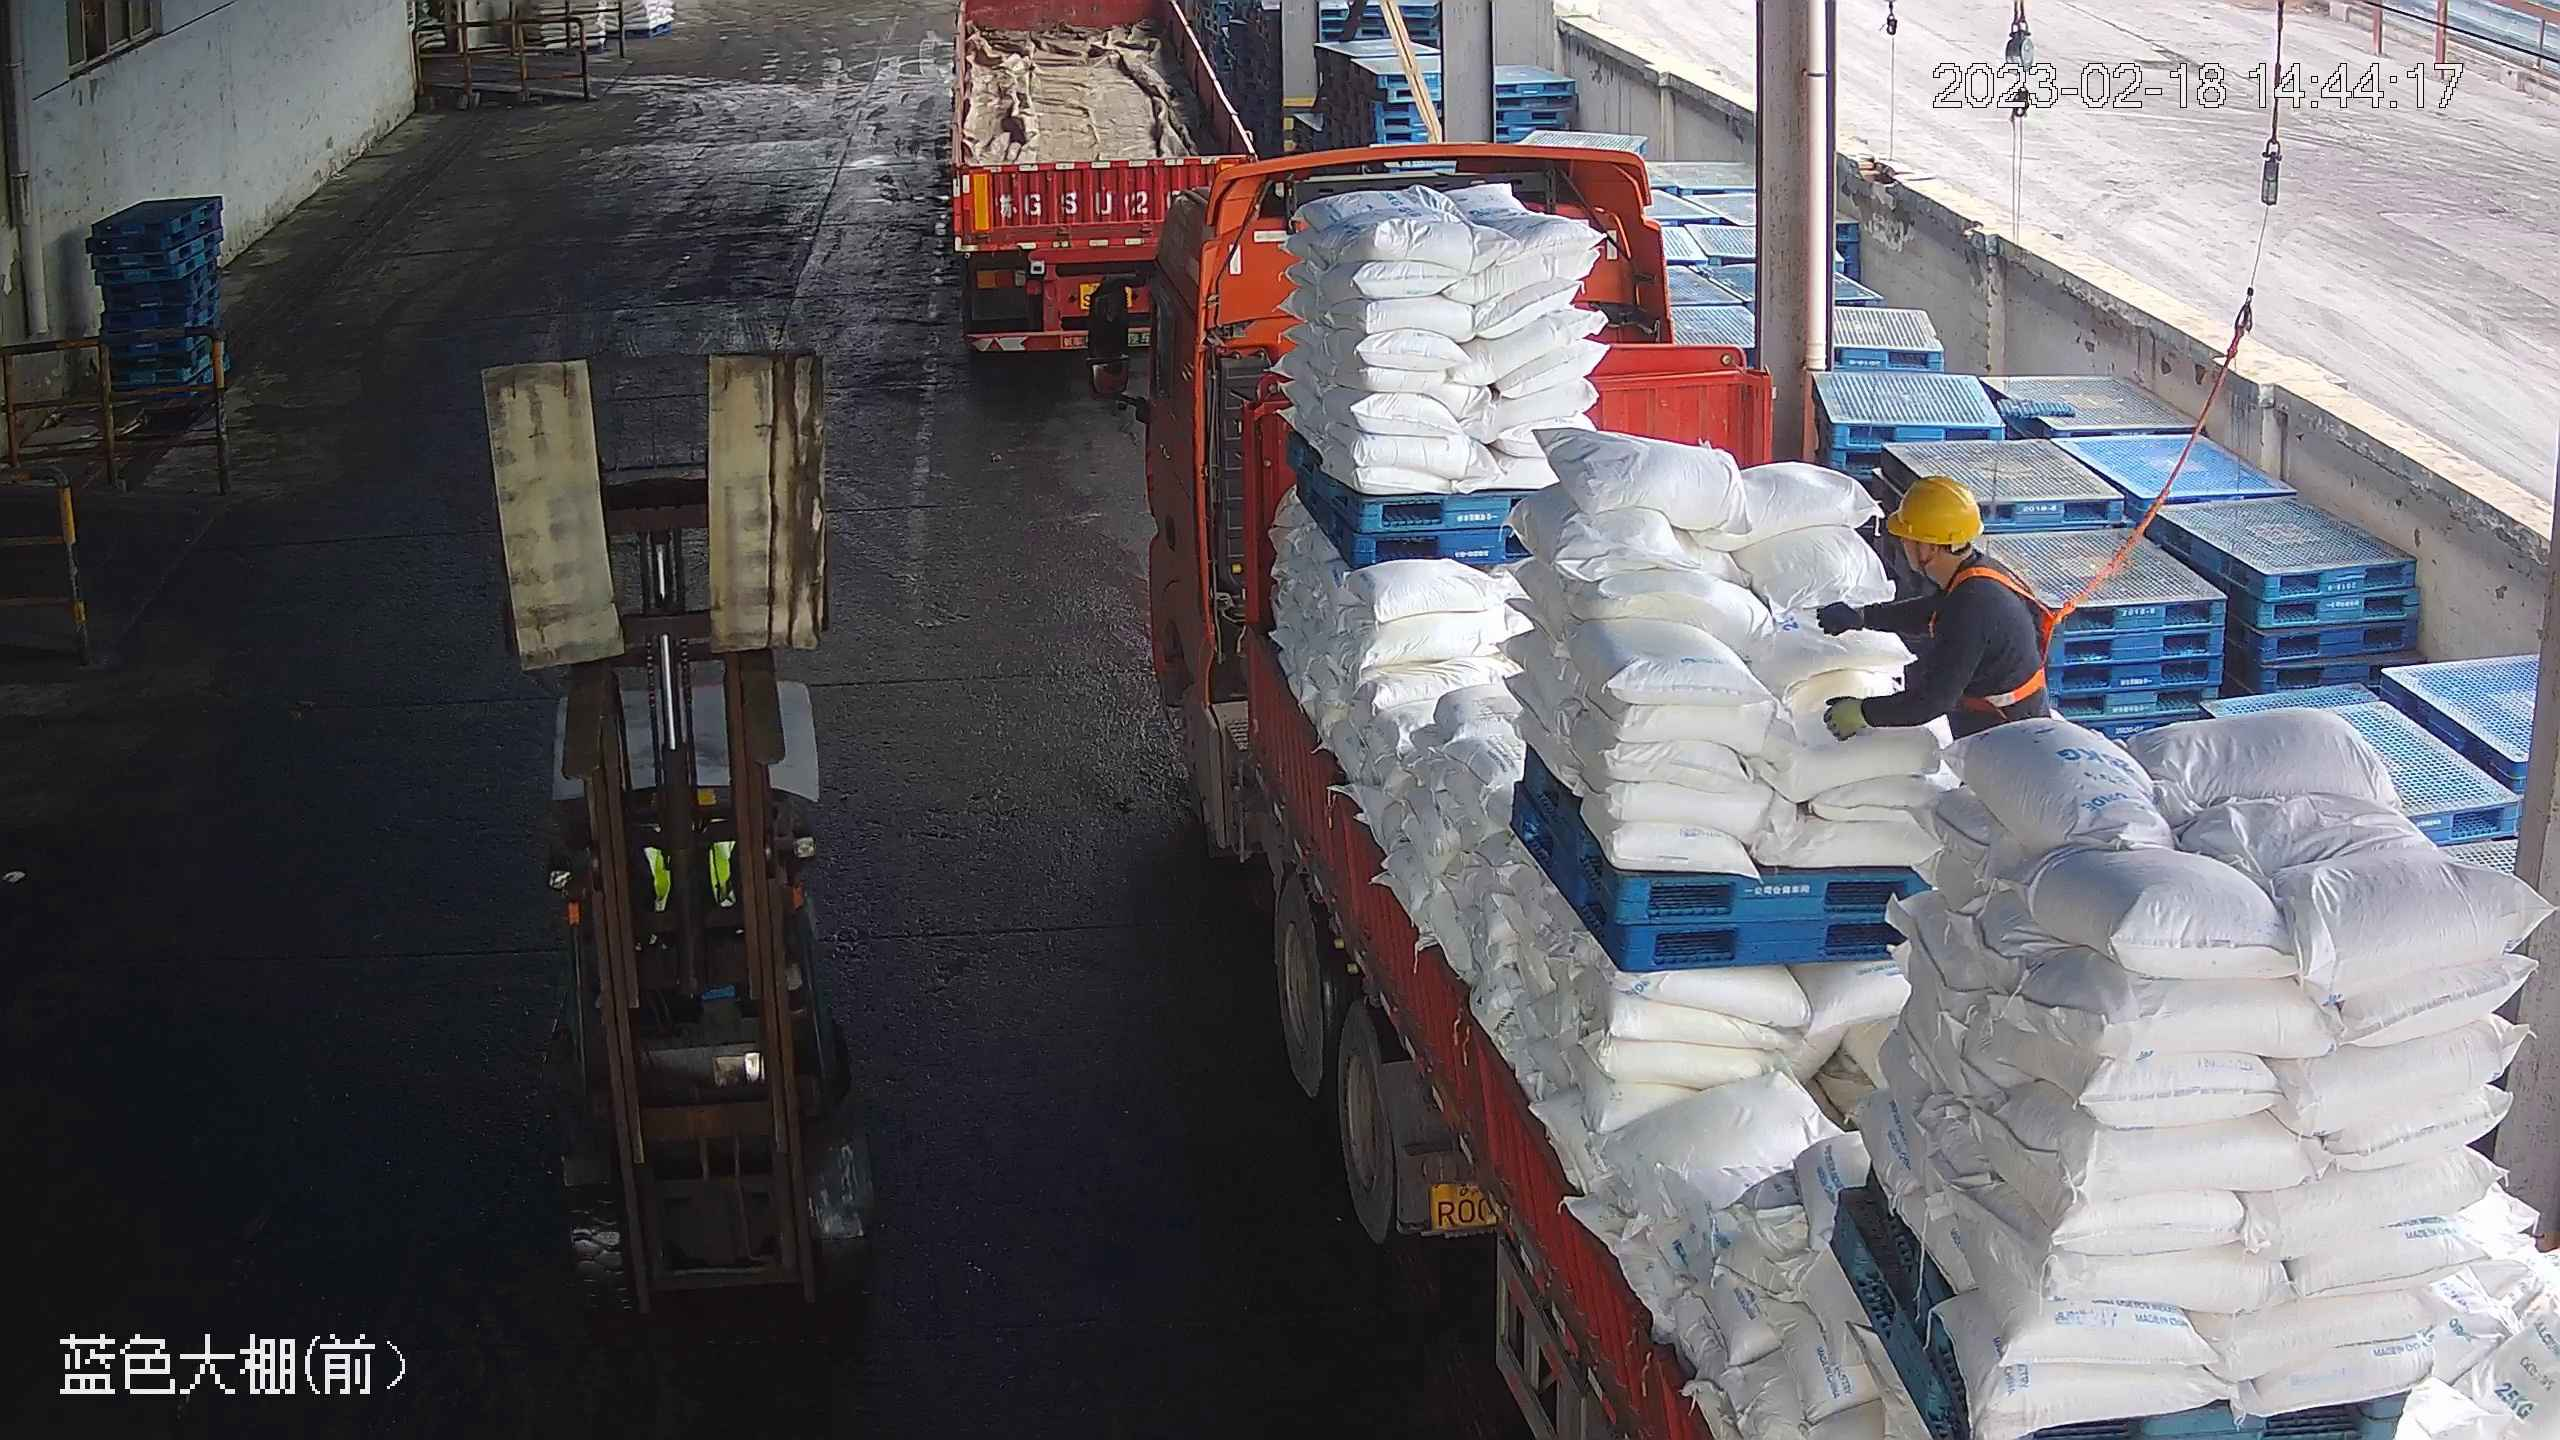belt: (1940, 556, 2068, 713)
head: (1882, 470, 2036, 639)
helmet: (1879, 473, 1985, 543)
people: (1808, 472, 2052, 761)
truck: (1088, 141, 2550, 1437), (948, 1, 1260, 355)
